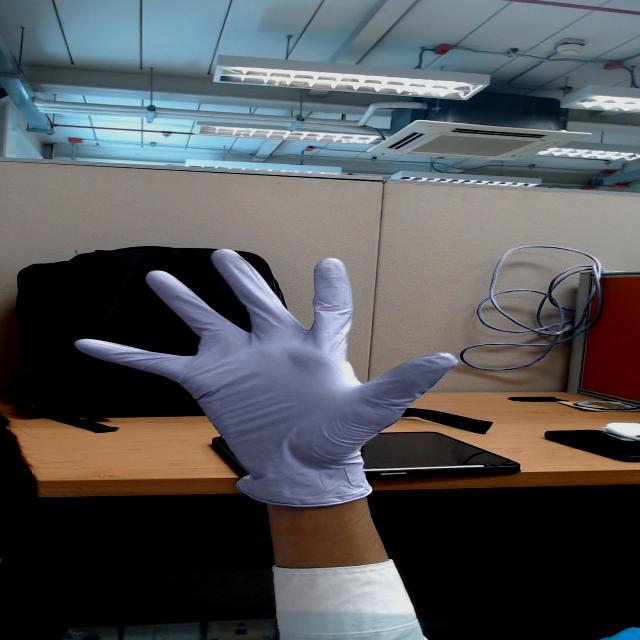glove: (53, 235, 473, 468)
